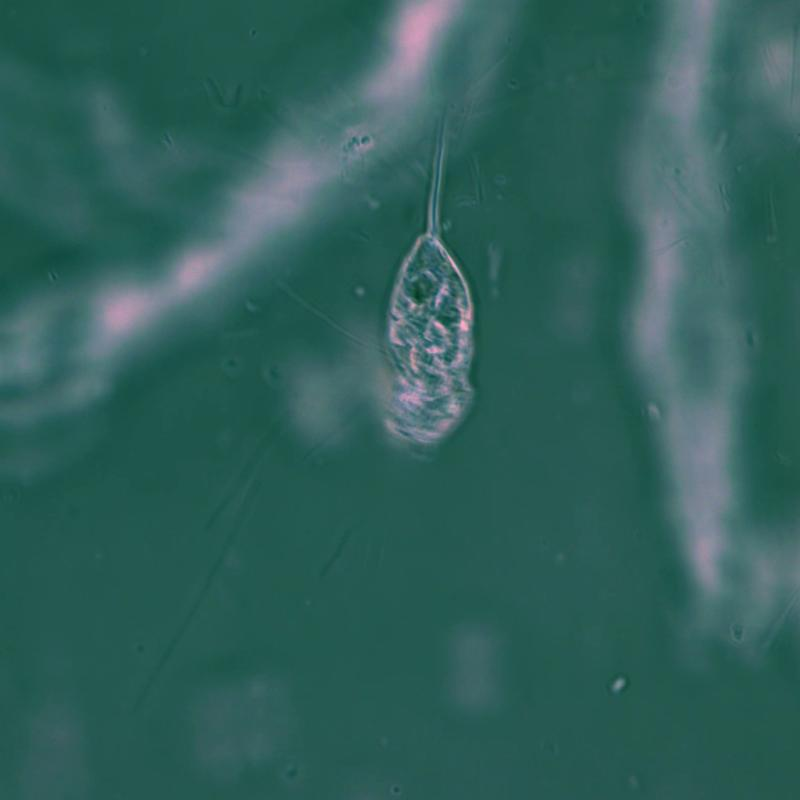depth:20: (355, 102, 525, 474)
